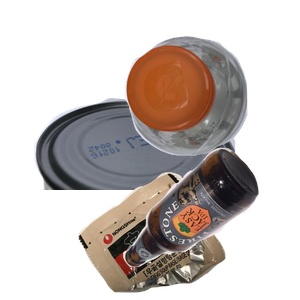glass: (120, 145, 300, 300)
metal: (16, 96, 244, 276)
plastic: (123, 33, 300, 181)
trash: (76, 170, 300, 300)
